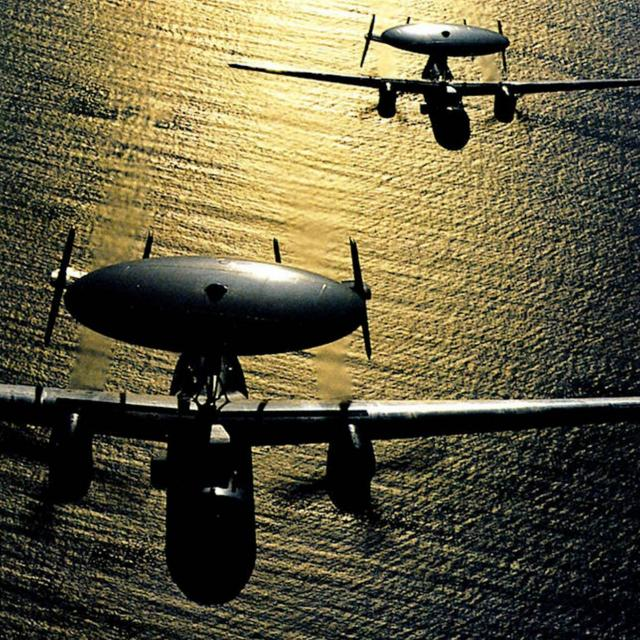MIL_Plane: (227, 12, 640, 150), (284, 230, 356, 602)
